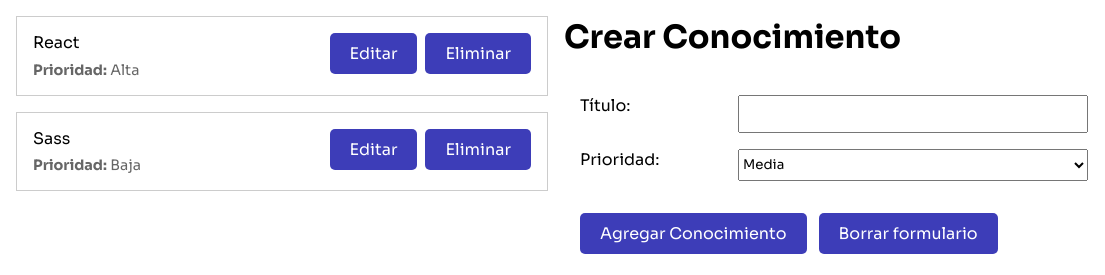
Scenario: <Conocimiento /> › «Borrar formulario» deja los campos en su valor por defecto
In the field labelled "Título:": (913, 114) [738,95,1088,133], type "TypeScript"
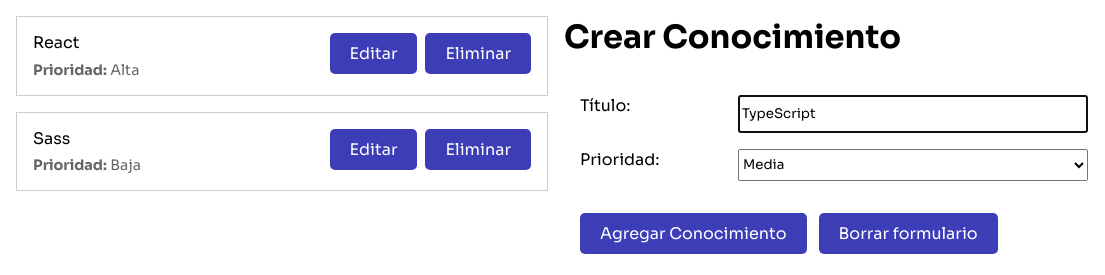
Select "Muy alta" in the dropdown labelled "Prioridad:": (913, 165) [738,149,1088,181]
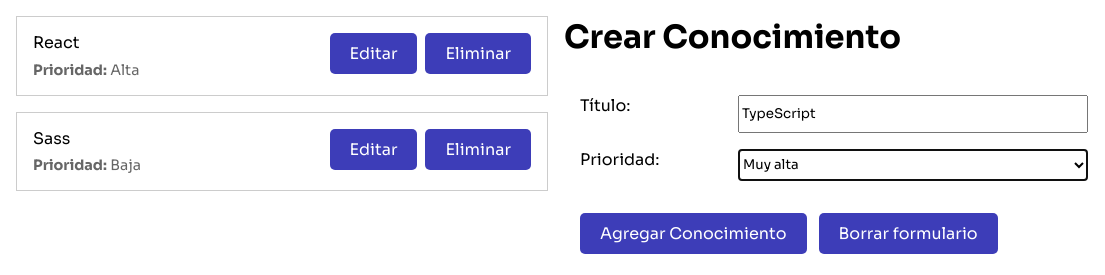
Click the button "Borrar formulario": (908, 233) [818,213,998,254]
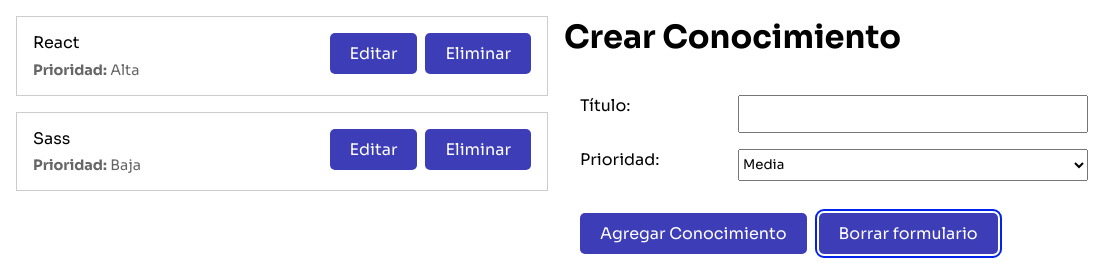
Check: the field labelled "Título:" is empty, box [738,95,1088,133]
